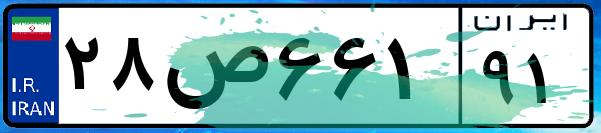1: (385, 28, 445, 110), (525, 38, 570, 115)
2: (57, 26, 110, 100)
6: (270, 28, 330, 110), (330, 28, 385, 110)
8: (110, 28, 158, 98)
9: (475, 38, 525, 113)
ص: (158, 20, 270, 120)
